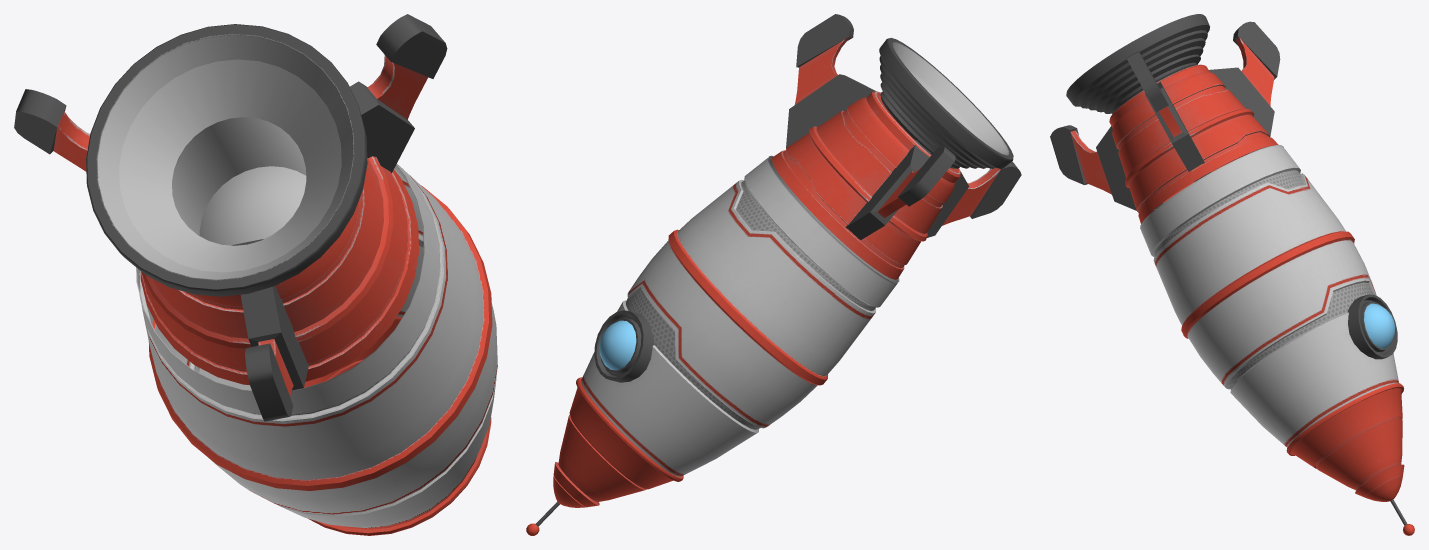
File: RocketA.fbx
3 renders of one model, left to right at view 1: azimuth 30°, elevation 25°; view 2: azimuth 150°, elevation 25°; view 3: azimuth 270°, elevation 25°, orthographic. The views are drawn at different scales.
Parts seen in each view (by area): view 1: RocketA; view 2: RocketA; view 3: RocketA.
Part boxes in pixels (x1=…): RocketA: x1=14, y1=14, x2=497, y2=535; RocketA: x1=526, y1=14, x2=1021, y2=535; RocketA: x1=1050, y1=14, x2=1414, y2=535.
Size of the model in its own units: 2.01 by 2.55 by 2.04.
